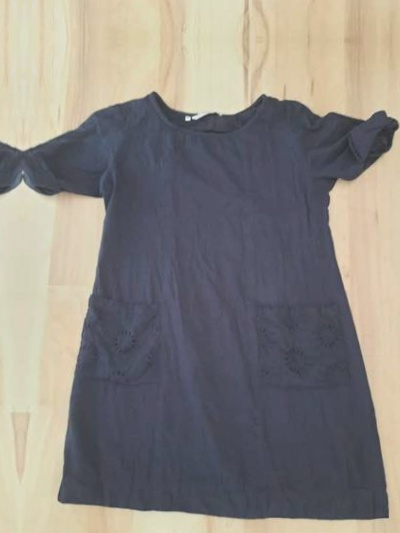Dress: (24, 73, 400, 529), (0, 70, 18, 525), (29, 0, 400, 4), (0, 0, 23, 1)
